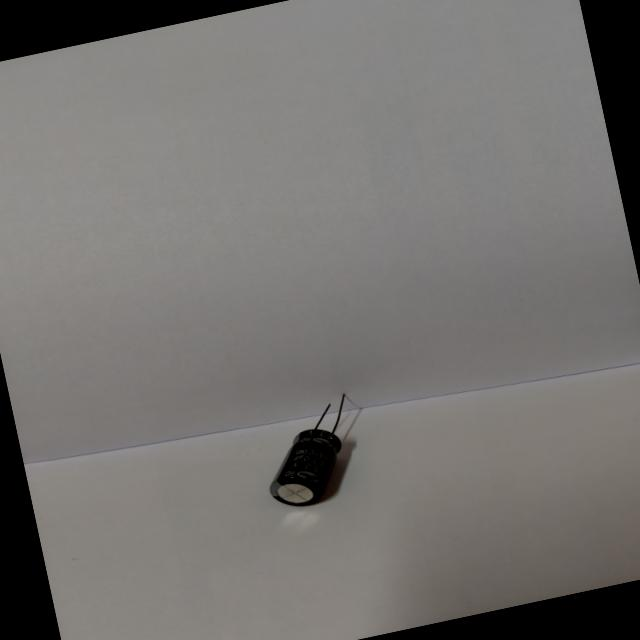capacitor: (244, 382, 380, 518)
